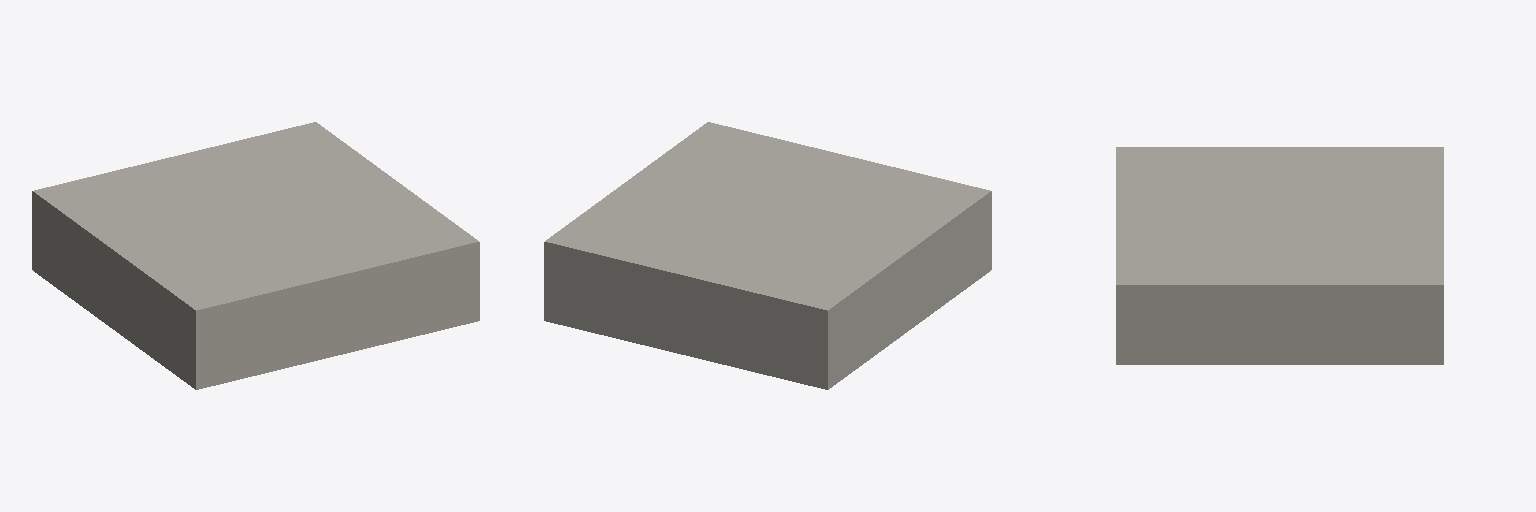
The model's file is guiding_simple.obj.
The picture shows the model from 3 angles: view 1: azimuth 30°, elevation 25°; view 2: azimuth 150°, elevation 25°; view 3: azimuth 270°, elevation 25°; orthographic projection.
Parts seen in each view (by area): view 1: Cube_Cube.001; view 2: Cube_Cube.001; view 3: Cube_Cube.001.
Boxes of the visible parts, box(x1,y1,x2,y2) form: Cube_Cube.001: box(32, 122, 479, 389); Cube_Cube.001: box(544, 122, 991, 389); Cube_Cube.001: box(1116, 147, 1443, 364).
Bounding box in the file's own units: 8 × 2.15 × 8.